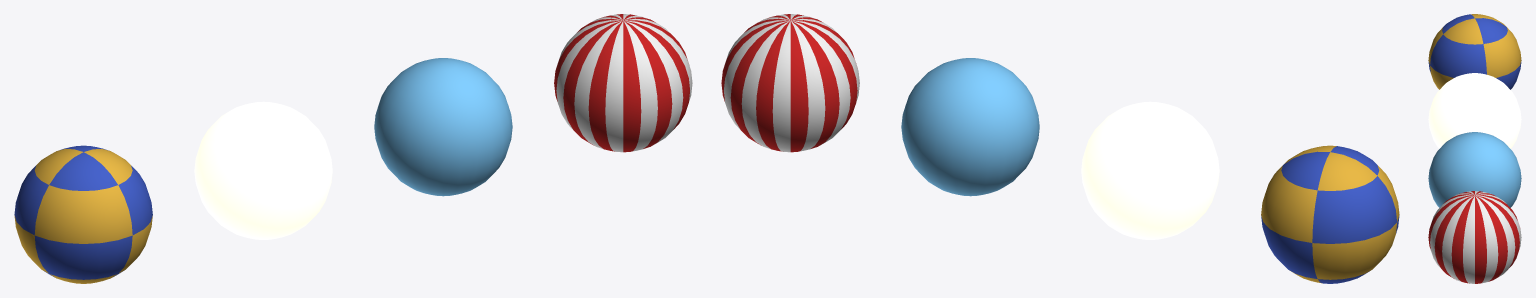
The model's file is Materials.fbx.
3 renders of one model, left to right at view 1: azimuth 30°, elevation 25°; view 2: azimuth 150°, elevation 25°; view 3: azimuth 270°, elevation 25°, orthographic. The views are drawn at different scales.
Parts seen in each view (by area): view 1: Metal, Tiled, Glow, Flat; view 2: Metal, Tiled, Glow, Flat; view 3: Tiled, Metal, Glow, Flat.
Boxes of the visible parts, <box> form: Metal: <box>14,145,152,283</box>; Tiled: <box>554,14,692,152</box>; Glow: <box>194,101,332,239</box>; Flat: <box>374,58,512,196</box>; Metal: <box>1261,145,1399,283</box>; Tiled: <box>721,14,859,152</box>; Glow: <box>1081,101,1219,239</box>; Flat: <box>901,58,1039,196</box>; Tiled: <box>1428,191,1521,283</box>; Metal: <box>1428,14,1521,89</box>; Glow: <box>1428,73,1521,148</box>; Flat: <box>1428,132,1521,207</box>.
Bounding box in the file's own units: 440 × 80 × 80.
4 materials, 2 textured.
